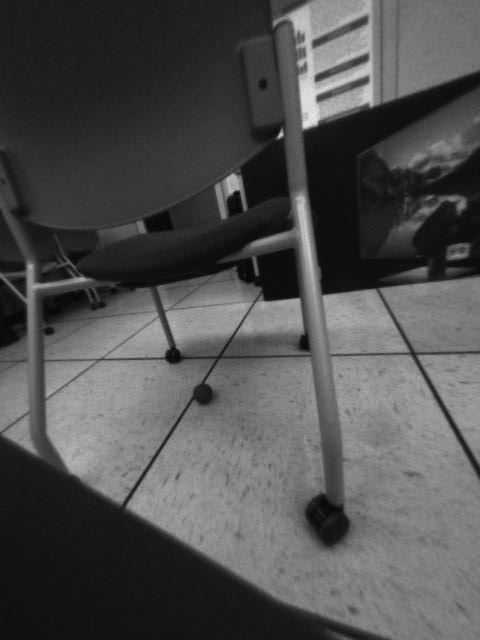dogtoy: (187, 375, 217, 408)
